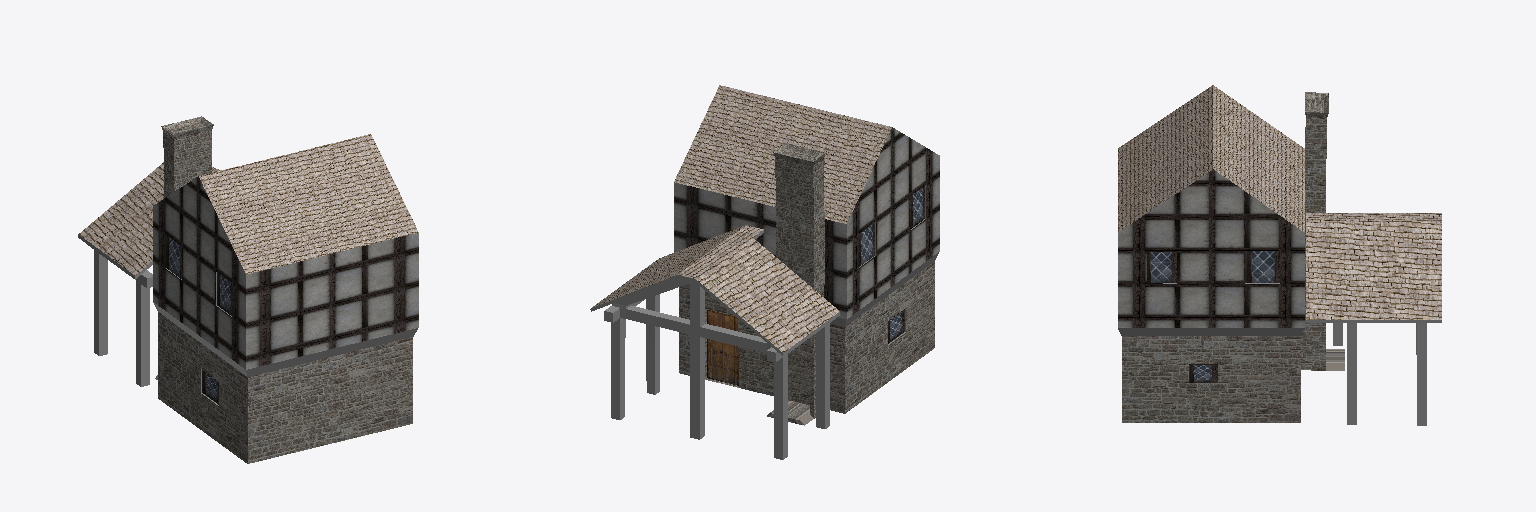
3 renders of one model, left to right at view 1: azimuth 30°, elevation 25°; view 2: azimuth 150°, elevation 25°; view 3: azimuth 270°, elevation 25°, orthographic.
Visible parts, largest first — view 1: Main_House; view 2: Main_House; view 3: Main_House.
Part boxes in pixels (left/top/right/bottom): Main_House: left=78, top=116, right=418, bottom=463; Main_House: left=590, top=85, right=939, bottom=459; Main_House: left=1118, top=85, right=1441, bottom=425.
Bounding box in the file's own units: 105 × 134 × 152.
11 materials, 5 textured.